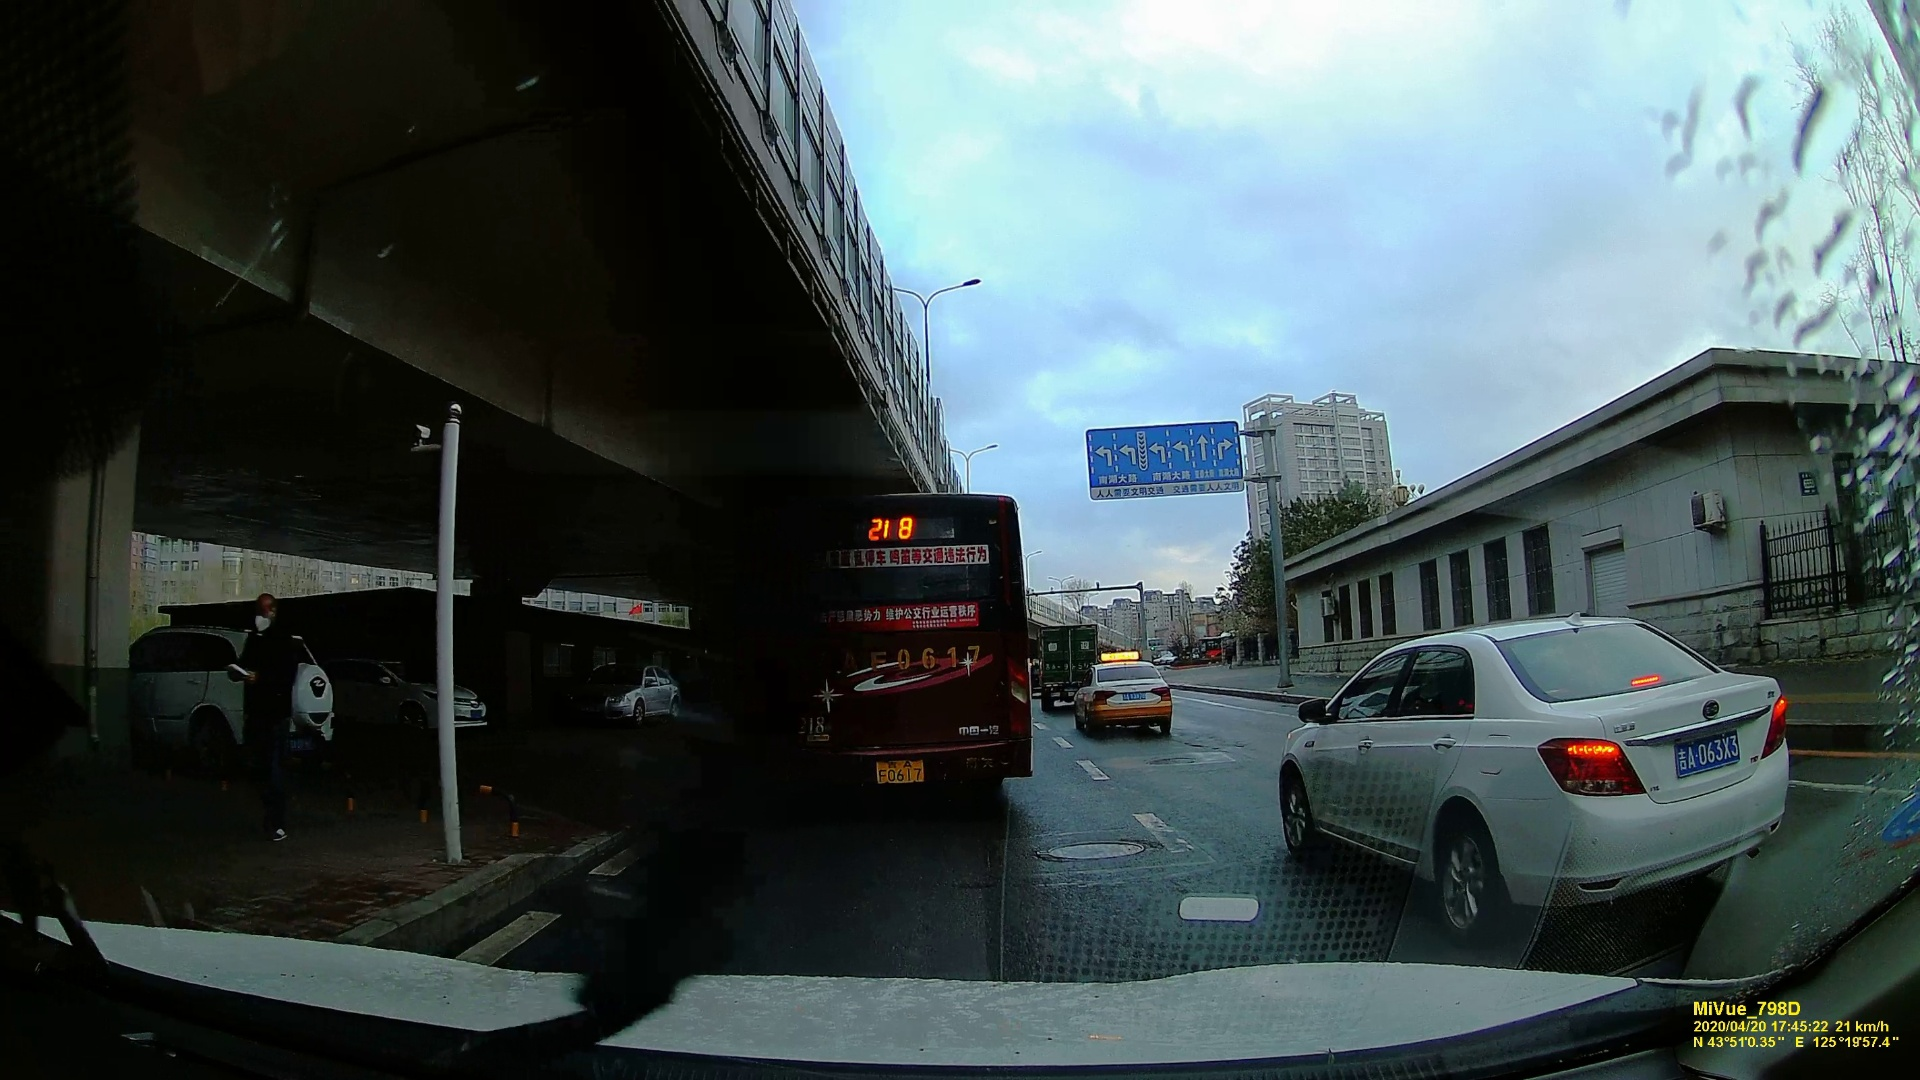bus: (754, 489, 1030, 806)
person: (234, 586, 300, 865)
traffic_sign: (1090, 430, 1241, 493)
truck: (1036, 624, 1095, 710)
vehicle: (1280, 603, 1791, 937), (115, 623, 342, 756), (1071, 665, 1174, 737)
